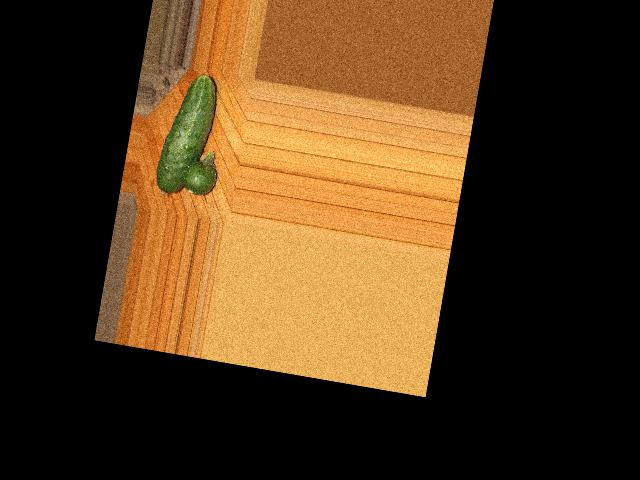cucumber: (153, 69, 221, 199)
